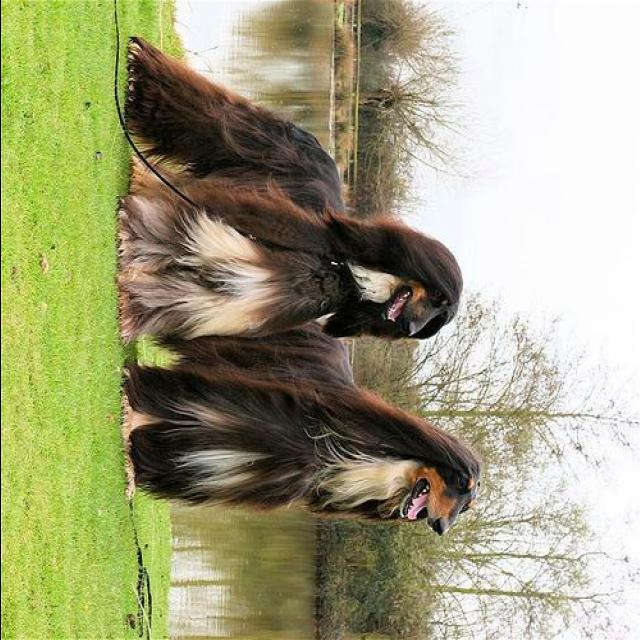afghan_hound: (112, 31, 466, 351), (120, 340, 480, 540)
